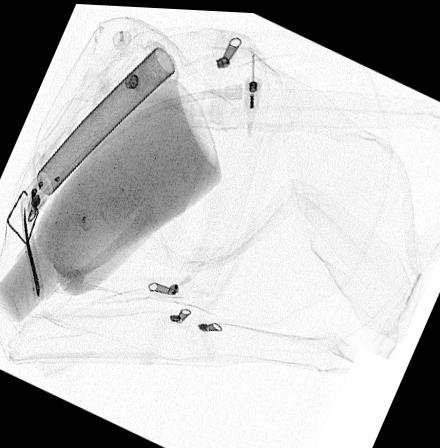Knife: (22, 195, 45, 299)
